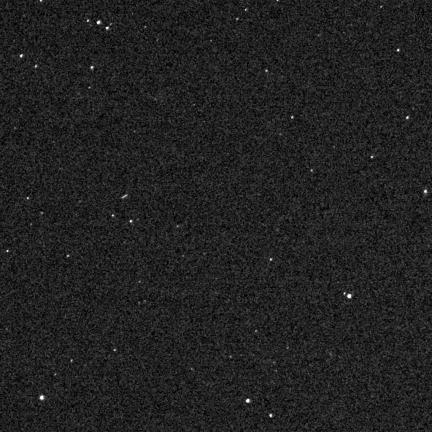blob: (39, 395, 45, 400), (97, 20, 102, 25), (20, 54, 24, 58), (90, 66, 94, 70), (291, 116, 295, 120), (406, 116, 410, 120), (347, 294, 351, 298), (246, 399, 250, 403), (35, 65, 38, 69), (397, 49, 400, 53), (270, 258, 273, 262), (265, 70, 269, 73), (269, 414, 273, 417), (236, 18, 239, 21), (424, 190, 427, 193), (371, 156, 374, 159), (130, 220, 132, 223)
